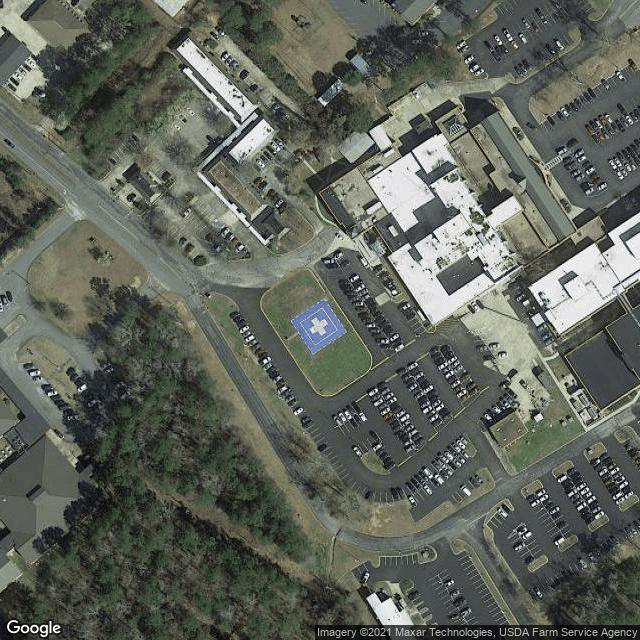Helipad: (292, 296, 348, 355)
